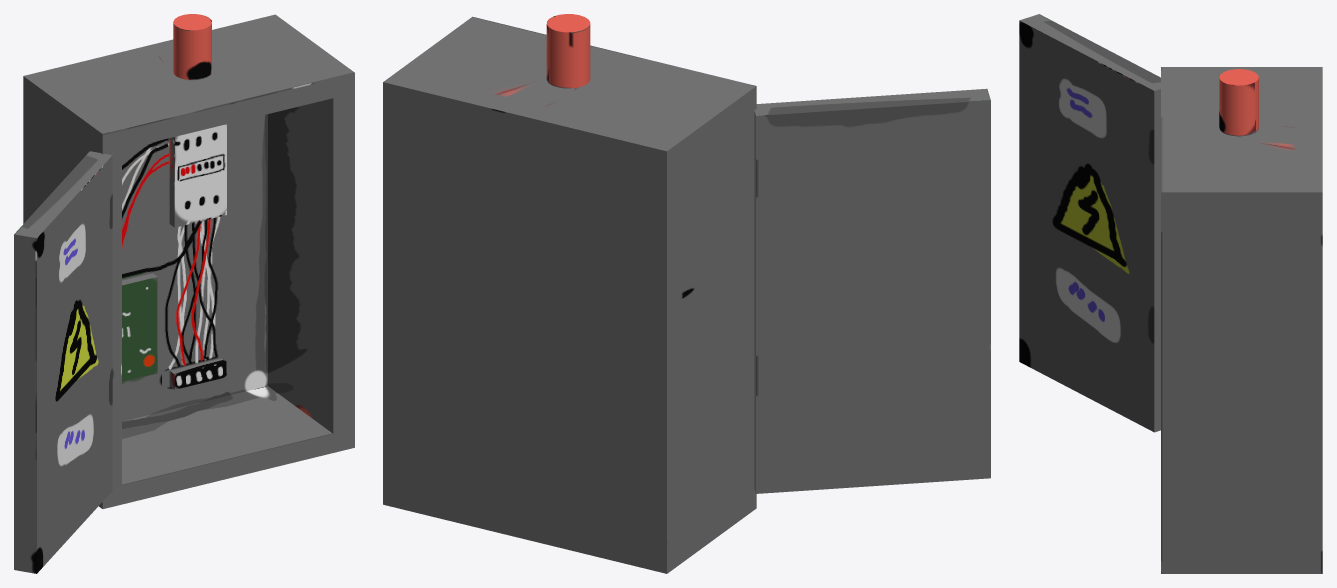
File: Electrical box.fbx
The picture shows the model from 3 angles, left to right: view 1: azimuth 30°, elevation 25°; view 2: azimuth 150°, elevation 25°; view 3: azimuth 270°, elevation 25°; orthographic projection. The views are drawn at different scales.
Visible parts, largest first — view 1: pCylinder2; view 2: pCylinder2; view 3: pCylinder2.
Part boxes in pixels (box(x1,y1,x2,y2)): pCylinder2: box(14, 14, 354, 573); pCylinder2: box(383, 14, 990, 573); pCylinder2: box(1019, 14, 1322, 573).
Bounding box in the file's own units: 320 × 326 × 206.
Materials: 1 (1 with a texture image).
